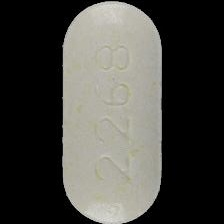21695-418: (0, 0, 224, 224)
